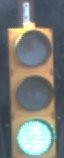Green: (6, 23, 59, 158)
